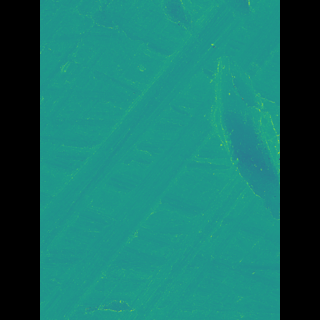Loch: (70, 0, 249, 320), (194, 51, 251, 225), (158, 0, 231, 49), (101, 288, 145, 319)
